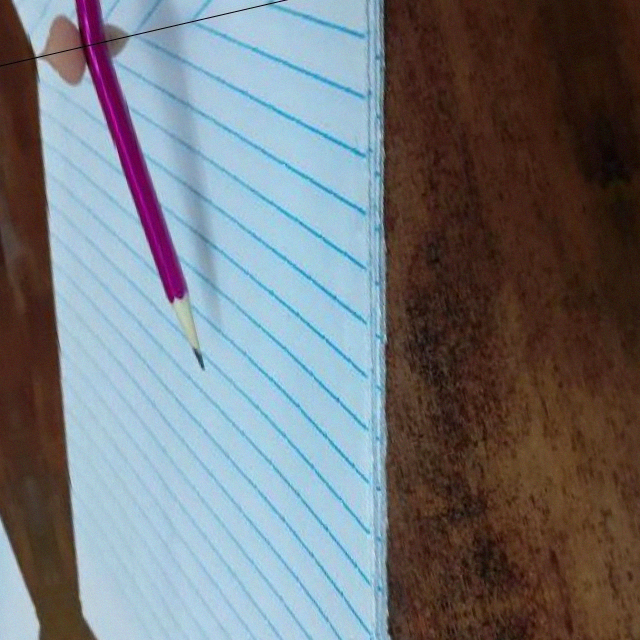pencil: (163, 293, 213, 377)
